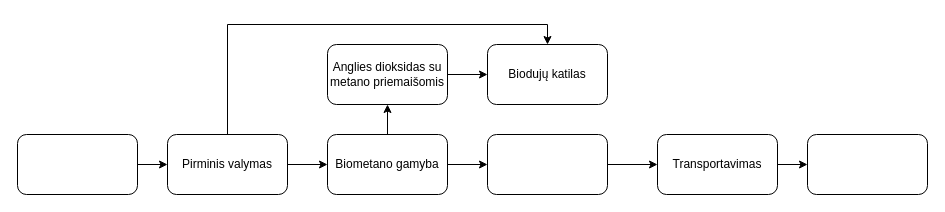
This 945x212 diagram has some shape labels left out. The shapes that lost their labels are listed below. From the top down, each one's centre as x and y in pixels, then its label:
At point (77, 164): "Bioreaktorius".
At point (547, 164): "Slėgimas".
At point (867, 164): "Gamtinių dujų tinklas arba kiti galutiniai vartotojai".
